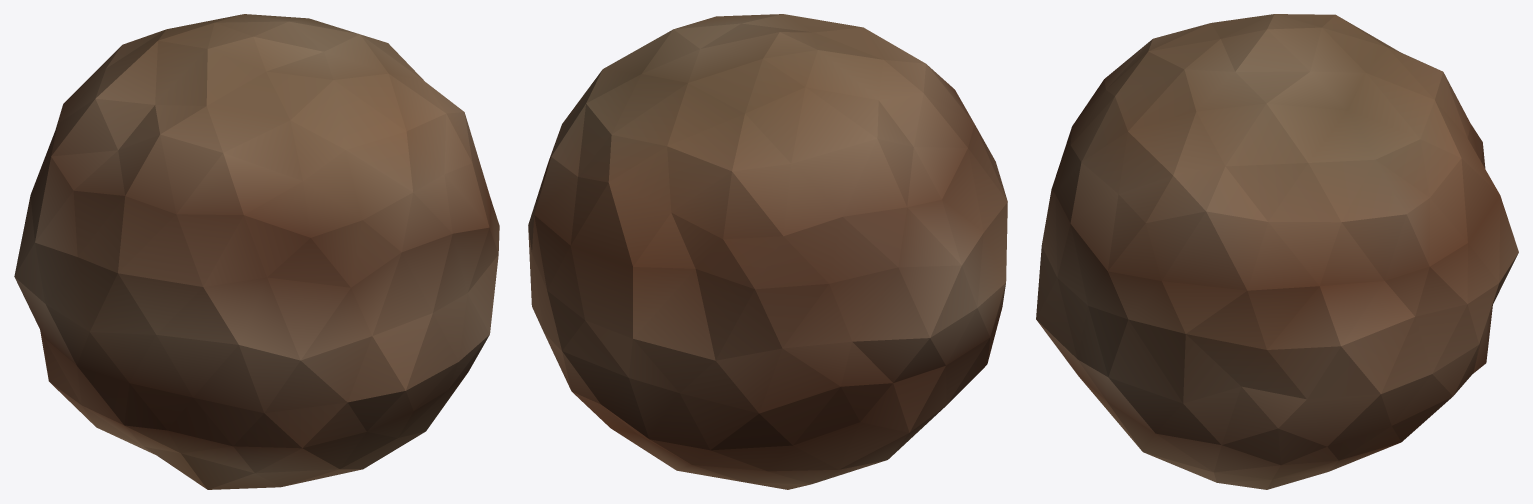
File: Jupiter.fbx
3 views of the same model, side by side, from view 1: azimuth 30°, elevation 25°; view 2: azimuth 150°, elevation 25°; view 3: azimuth 270°, elevation 25° (orthographic).
Parts seen in each view (by area): view 1: Jupiter; view 2: Jupiter; view 3: Jupiter.
Boxes of the visible parts, x1,y1,x2,y2 form: Jupiter: [14, 14, 499, 489]; Jupiter: [528, 14, 1007, 489]; Jupiter: [1036, 14, 1518, 489].
Bounding box in the file's own units: 20.07 × 20.02 × 20.47.
